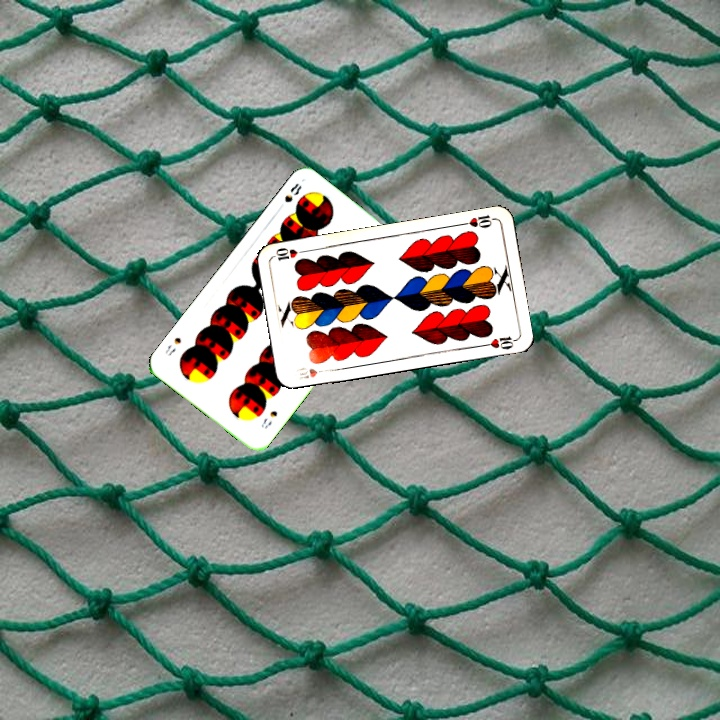H10: (457, 210, 497, 231), (292, 363, 331, 382)
S8: (274, 179, 304, 213), (257, 406, 280, 431)
